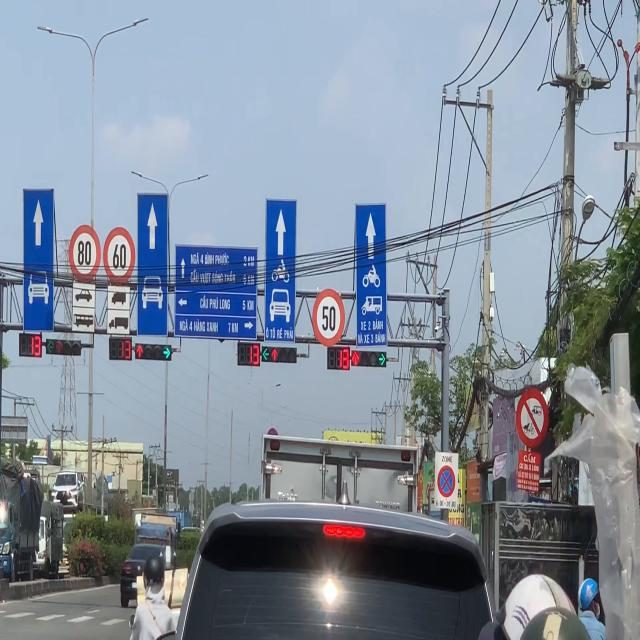Cam con lai: (516, 388, 550, 450)
Cam dung va do: (437, 464, 456, 498)
Toc do toi da: (312, 287, 344, 350), (102, 226, 136, 285), (67, 224, 101, 282)
